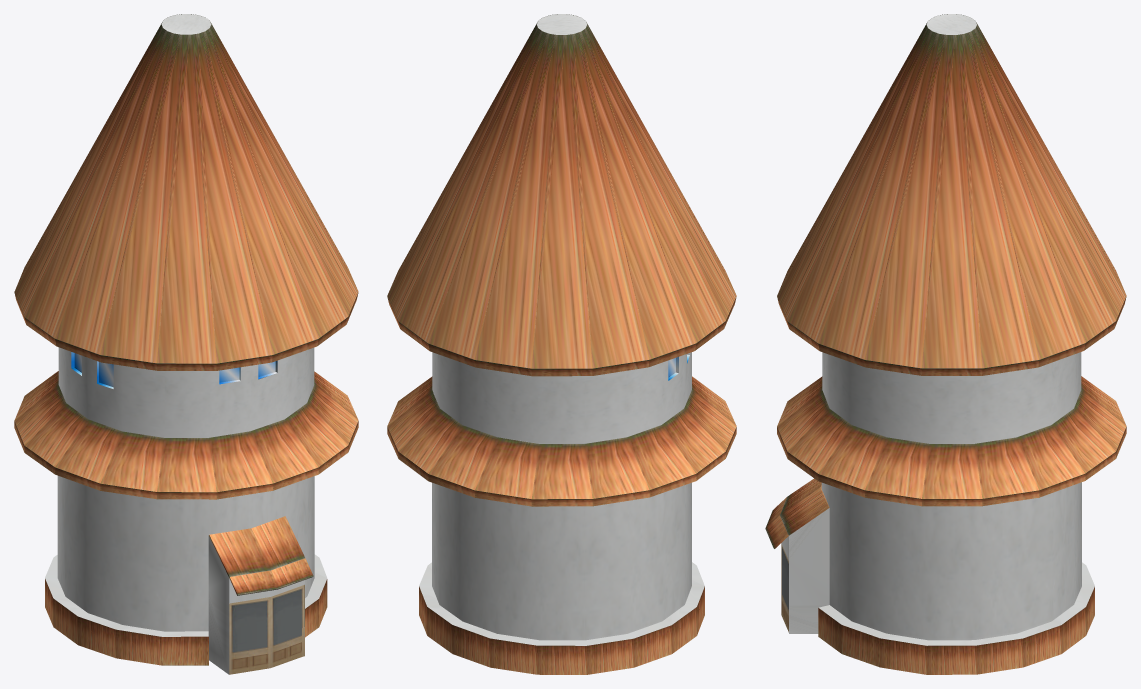
The model's file is KonohagakureTower_1.FBX.
The picture shows the model from 3 angles, left to right: view 1: azimuth 30°, elevation 25°; view 2: azimuth 150°, elevation 25°; view 3: azimuth 270°, elevation 25°; orthographic projection.
Visible parts, largest first — view 1: Object01; view 2: Object01; view 3: Object01.
Part boxes in pixels (x1,y1,x2,y2): Object01: (14,14,358,674); Object01: (387,14,736,674); Object01: (765,14,1126,674).
Size of the model in its own units: 53.12 by 55.8 by 101.
Materials: 1 (1 with a texture image).
